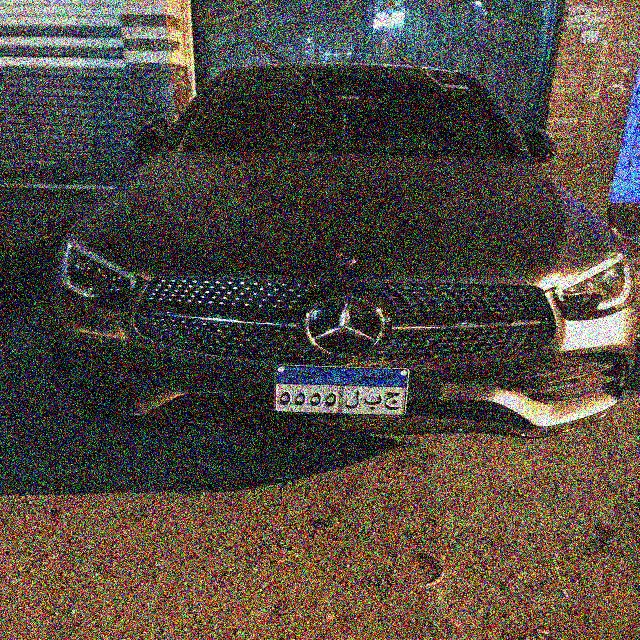License Plate: (271, 362, 413, 419)
